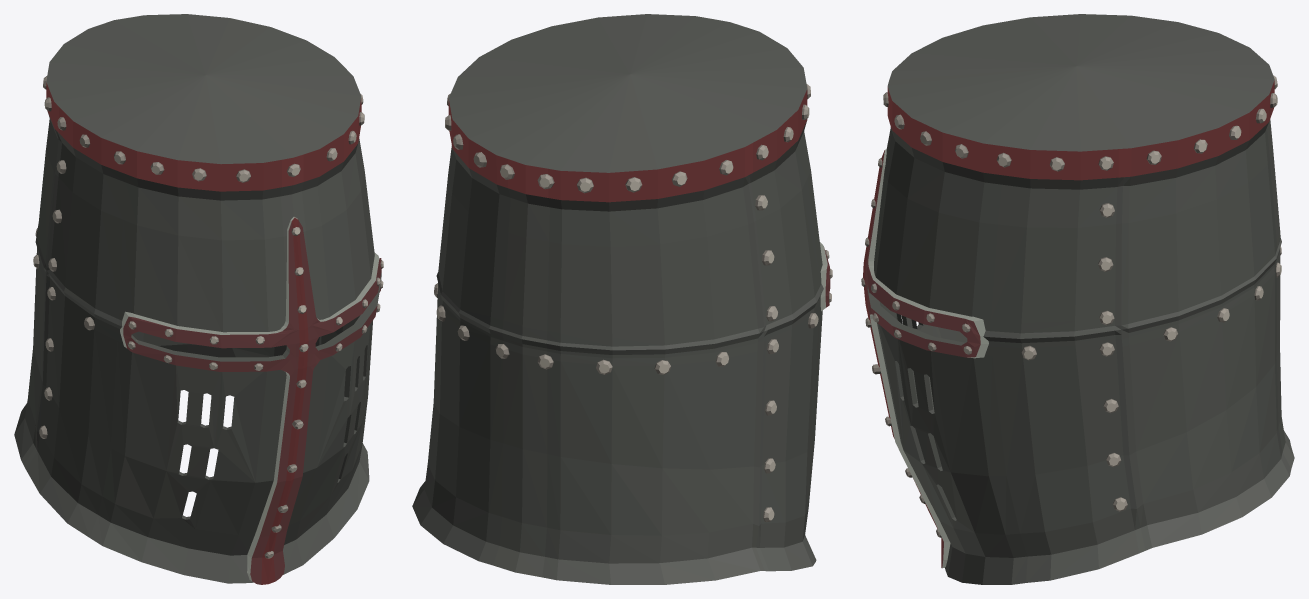
Rendered from bucketHelmetKnightFemale.glb.
3 renders of one model, left to right at view 1: azimuth 30°, elevation 25°; view 2: azimuth 150°, elevation 25°; view 3: azimuth 270°, elevation 25°, orthographic. The views are drawn at different scales.
Visible parts, largest first — view 1: bucketHelmetKnight; view 2: bucketHelmetKnight; view 3: bucketHelmetKnight.
Part boxes in pixels (<box>): bucketHelmetKnight: <box>14,14,383,584</box>; bucketHelmetKnight: <box>412,14,832,584</box>; bucketHelmetKnight: <box>861,14,1294,584</box>.
Size of the model in its own units: 0.2834 by 0.4054 by 0.3191.
